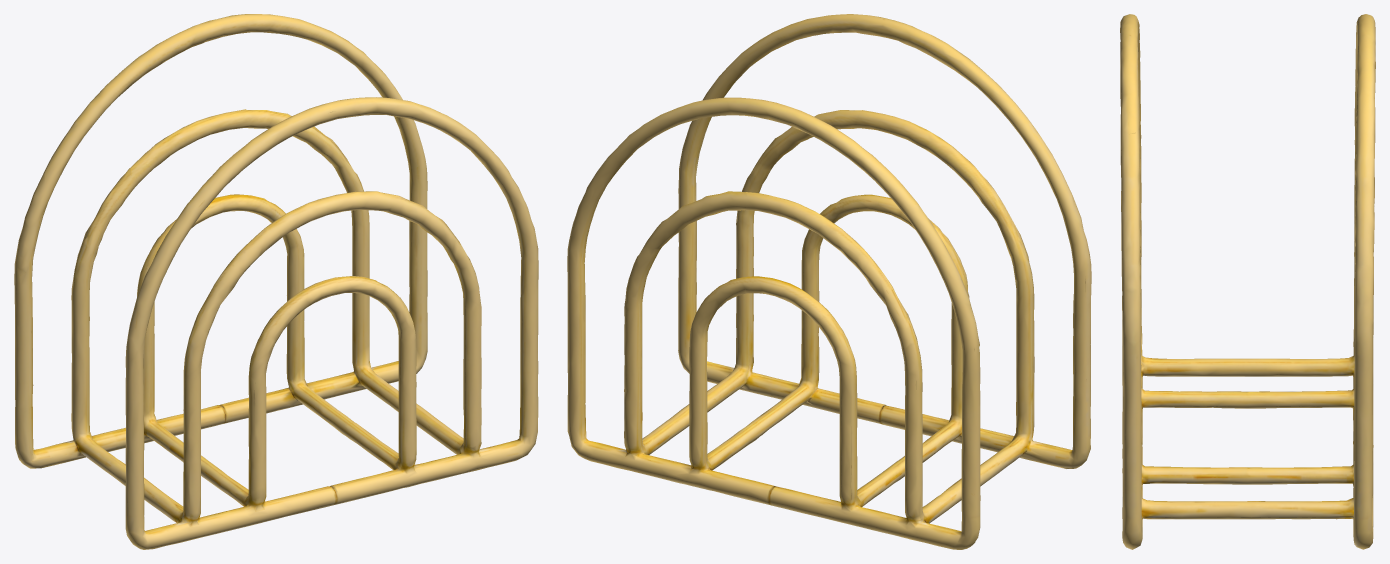
Rendered from rack-golden-arch.glb.
The picture shows the model from 3 angles, left to right: view 1: azimuth 30°, elevation 25°; view 2: azimuth 150°, elevation 25°; view 3: azimuth 270°, elevation 25°; orthographic projection. The views are drawn at different scales.
Parts seen in each view (by area): view 1: Mesh1.0; view 2: Mesh1.0; view 3: Mesh1.0.
Boxes of the visible parts, <box> form: Mesh1.0: <box>14,14,538,549</box>; Mesh1.0: <box>567,14,1091,549</box>; Mesh1.0: <box>1120,14,1375,549</box>.
Bounding box in the file's own units: 1.92 × 1.8 × 0.9923.
Materials: 1 (1 with a texture image).
